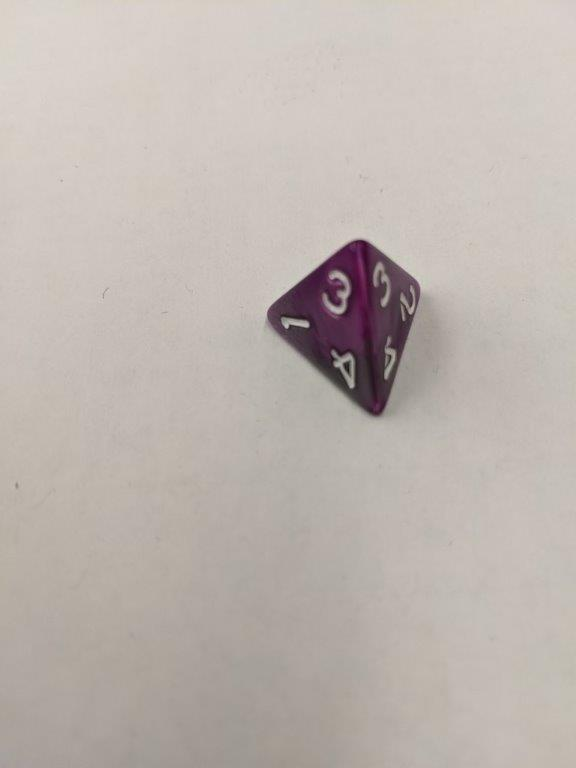d4-3: (266, 236, 426, 416)
